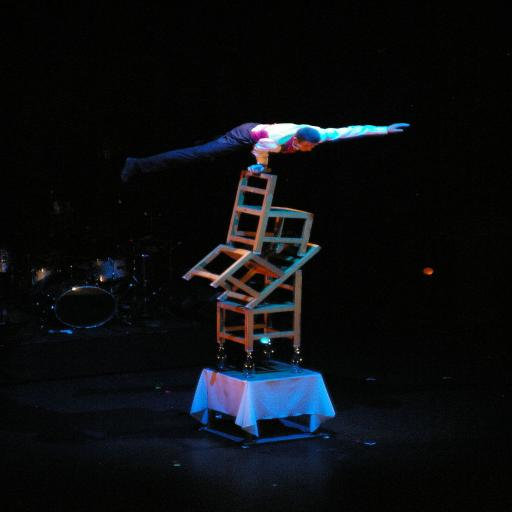chair: (182, 240, 320, 310), (216, 269, 302, 358), (226, 170, 315, 254)
desk: (190, 360, 335, 448)
